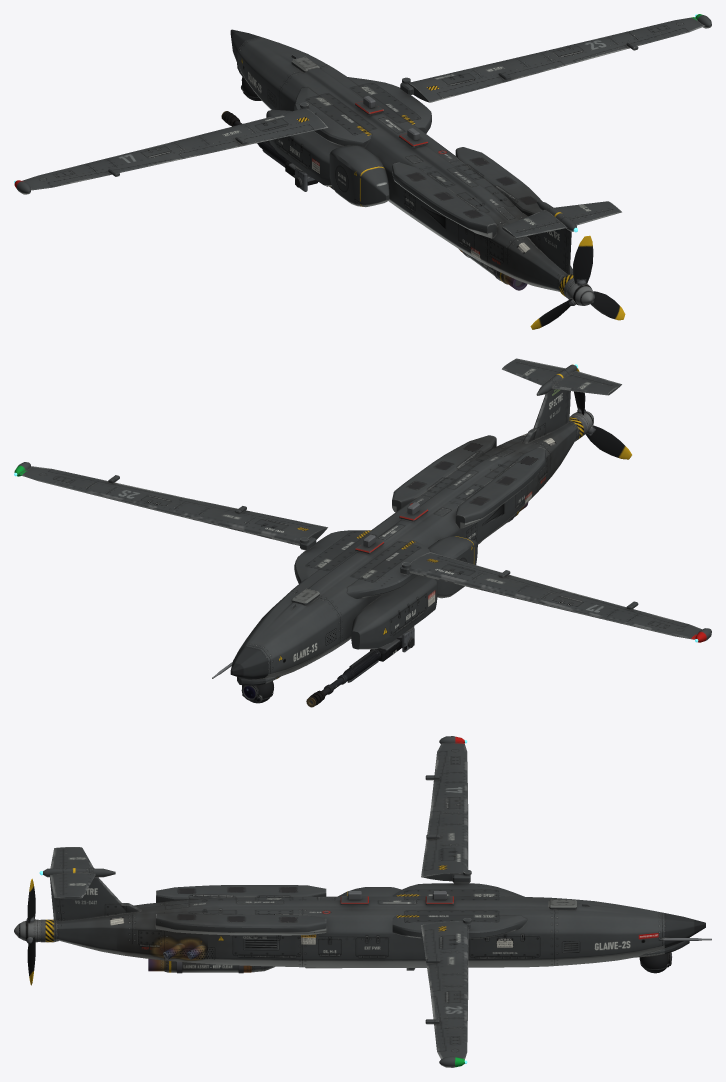
The model's file is Glaive2S.fbx.
3 renders of one model, top to bottom at view 1: azimuth 30°, elevation 25°; view 2: azimuth 150°, elevation 25°; view 3: azimuth 270°, elevation 25°, orthographic. The views are drawn at different scales.
Parts seen in each view (by area): view 1: Skin, WingR, WingL, Propeller, GunPitch; view 2: Skin, WingL, WingR, GunPitch, Propeller; view 3: Skin, WingR, WingL, Propeller.
Part boxes in pixels (left/top/right/bottom): Skin: left=230, top=29, right=621, bottom=298; WingR: left=400, top=14, right=711, bottom=102; WingL: left=14, top=102, right=327, bottom=194; Propeller: left=530, top=235, right=625, bottom=329; GunPitch: left=221, top=111, right=318, bottom=185; Skin: left=212, top=358, right=621, bottom=703; WingL: left=400, top=552, right=711, bottom=642; WingR: left=14, top=462, right=327, bottom=550; GunPitch: left=306, top=638, right=402, bottom=707; Propeller: left=571, top=364, right=631, bottom=459; Skin: left=40, top=847, right=711, bottom=973; WingR: left=421, top=918, right=471, bottom=1067; WingL: left=421, top=736, right=471, bottom=883; Propeller: left=14, top=878, right=40, bottom=985.
Size of what is drawn, in the model's own units: 325 by 51.06 by 295.
3 materials, 1 textured.
